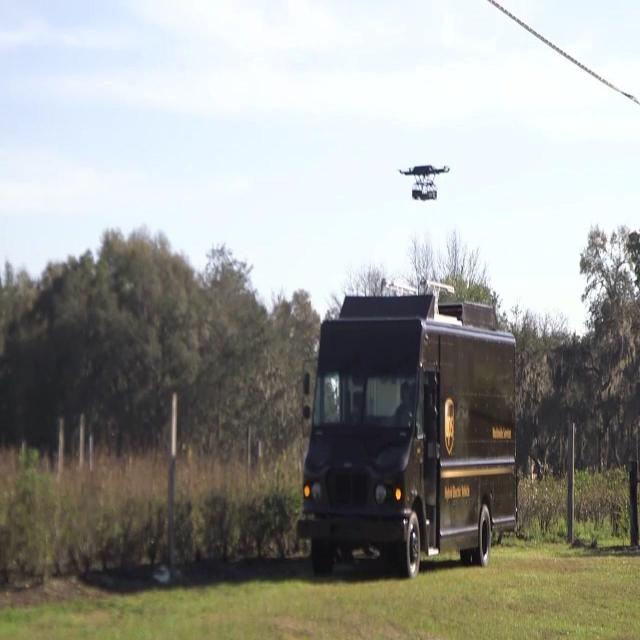drone: (396, 162, 451, 205)
